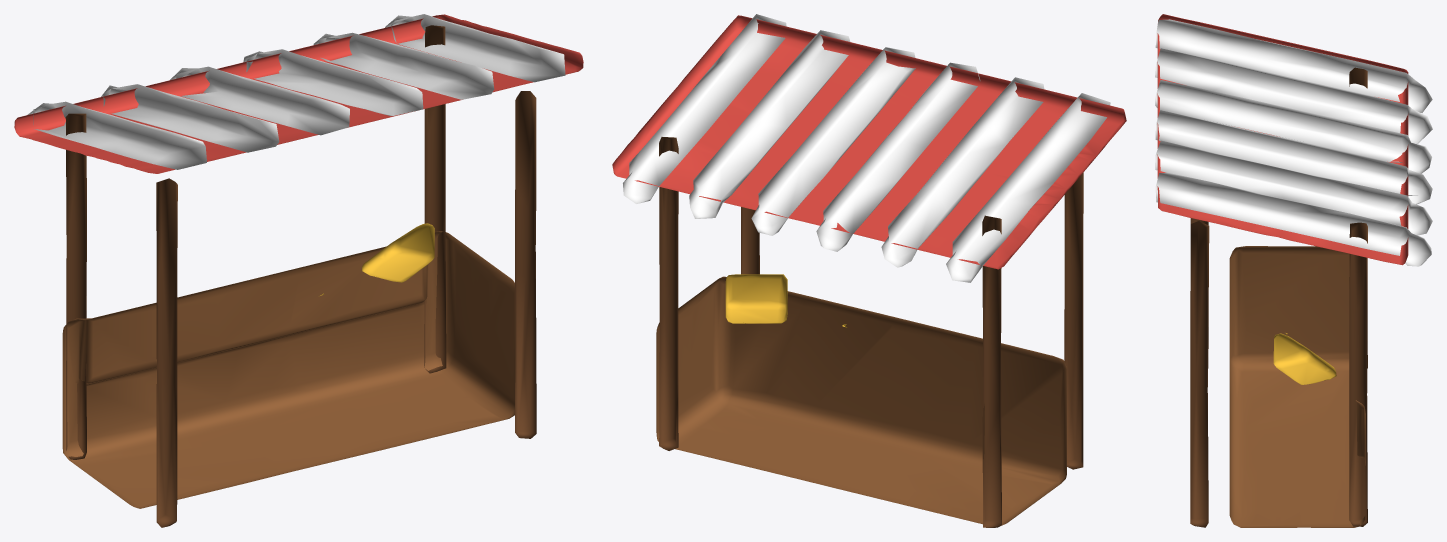
Rendered from prop_stall.glb.
3 renders of one model, left to right at view 1: azimuth 30°, elevation 25°; view 2: azimuth 150°, elevation 25°; view 3: azimuth 270°, elevation 25°, orthographic. The views are drawn at different scales.
Visible parts, largest first — view 1: body; view 2: body; view 3: body.
Part boxes in pixels (x1,y1,x2,y2): body: (14,14,583,527); body: (612,14,1126,527); body: (1155,14,1432,527).
Size of the model in its own units: 5.8 by 5.07 by 3.67.
Materials: 1 (1 with a texture image).
